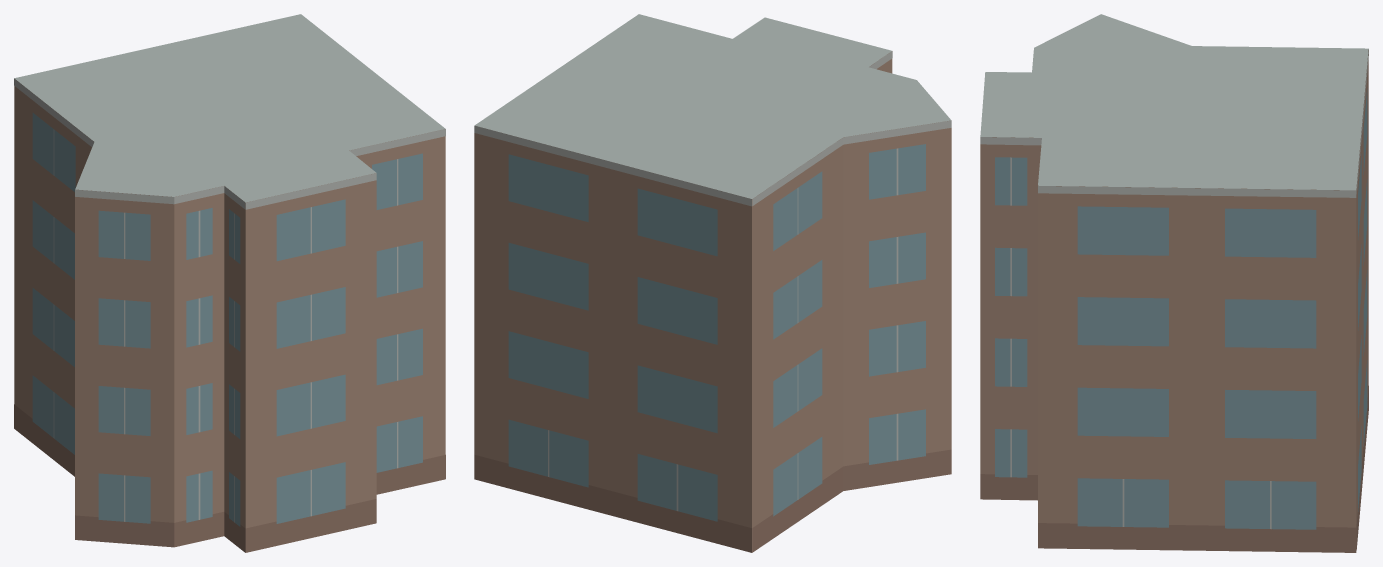
Rendered from survey-upis-32705066.glb.
3 views of the same model, side by side, from view 1: azimuth 30°, elevation 25°; view 2: azimuth 150°, elevation 25°; view 3: azimuth 270°, elevation 25° (orthographic). The views are drawn at different scales.
Parts seen in each view (by area): view 1: survey-upis-32705066.tmp; view 2: survey-upis-32705066.tmp; view 3: survey-upis-32705066.tmp.
Boxes of the visible parts, left/top/right/bottom form: survey-upis-32705066.tmp: left=14, top=14, right=445, bottom=552; survey-upis-32705066.tmp: left=474, top=14, right=951, bottom=552; survey-upis-32705066.tmp: left=980, top=14, right=1368, bottom=552.
Size of the model in its own units: 12.22 by 11.7 by 11.37.
